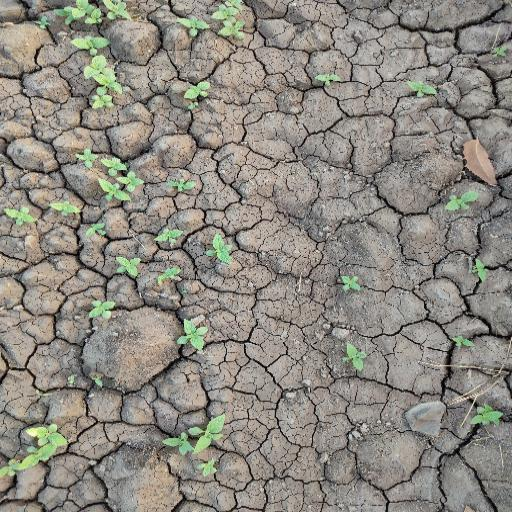crop: (50, 12, 137, 109), (152, 224, 241, 292), (161, 415, 234, 478), (75, 145, 147, 202), (13, 411, 75, 476), (180, 4, 265, 43), (457, 386, 506, 449), (171, 315, 219, 358), (342, 338, 379, 381), (330, 263, 369, 299), (187, 73, 212, 109)
